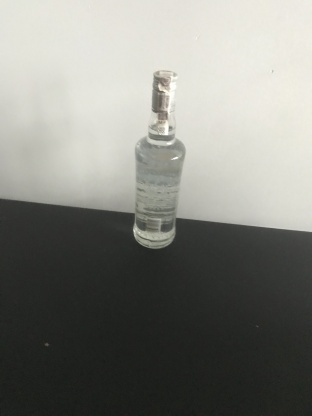nakretka: (150, 67, 179, 113)
